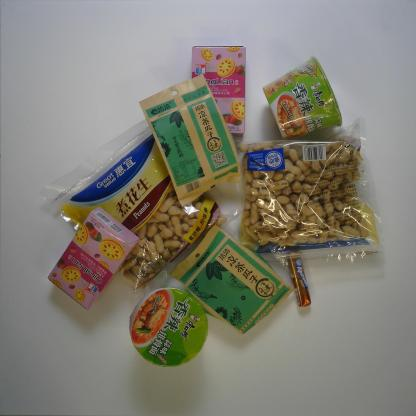Candy: (285, 240, 311, 308)
Dessert: (46, 206, 142, 310), (190, 44, 247, 136)
Dried Food: (40, 109, 246, 302), (232, 114, 384, 266), (166, 219, 297, 336), (138, 73, 242, 207)
Instant Noodles: (262, 54, 343, 144), (127, 287, 210, 370)
